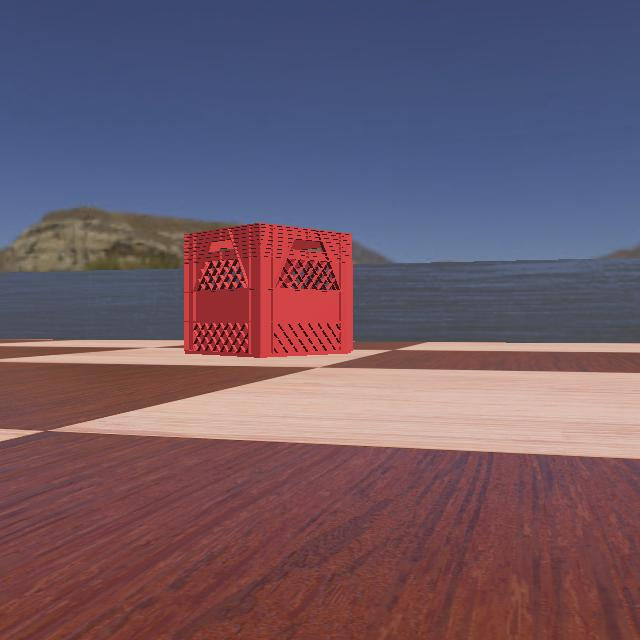plastic-crate: (166, 222, 357, 358)
